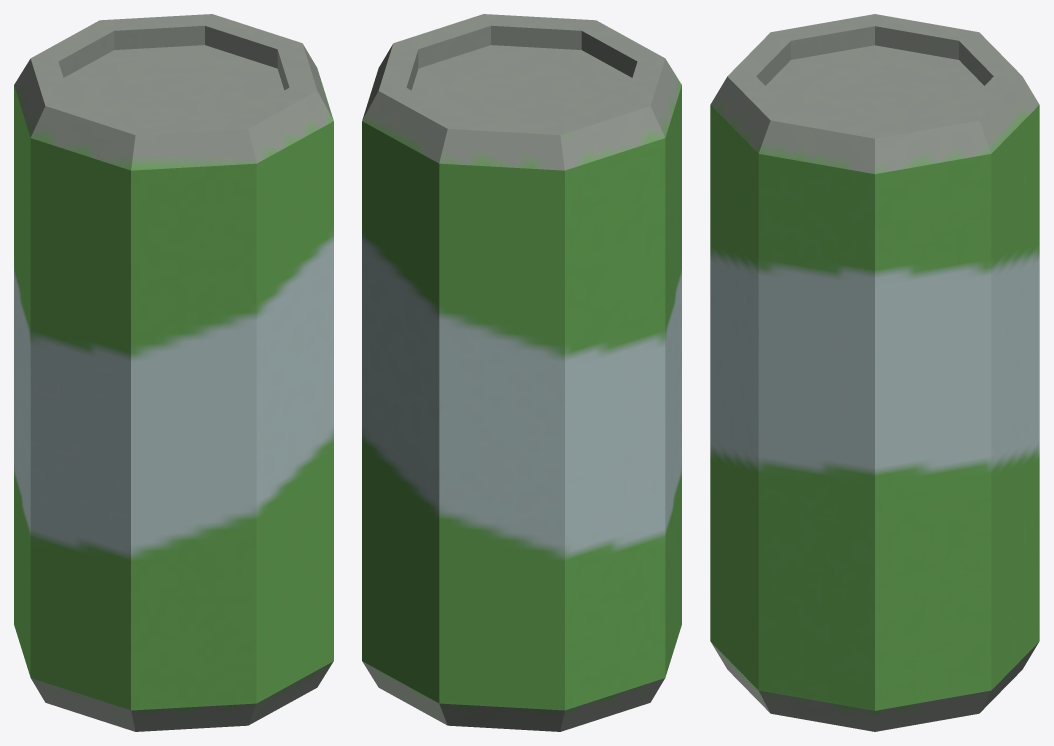
Rendered from SM_Food_07.fbx.
The picture shows the model from 3 angles, left to right: view 1: azimuth 30°, elevation 25°; view 2: azimuth 150°, elevation 25°; view 3: azimuth 270°, elevation 25°; orthographic projection.
Parts seen in each view (by area): view 1: SM_Food_07; view 2: SM_Food_07; view 3: SM_Food_07.
Part boxes in pixels (<box>): SM_Food_07: <box>14,14,333,731</box>; SM_Food_07: <box>362,14,681,731</box>; SM_Food_07: <box>710,14,1039,731</box>.
Bounding box in the file's own units: 8.09 × 16.09 × 8.09.
